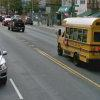Bus: (51, 17, 100, 71)
